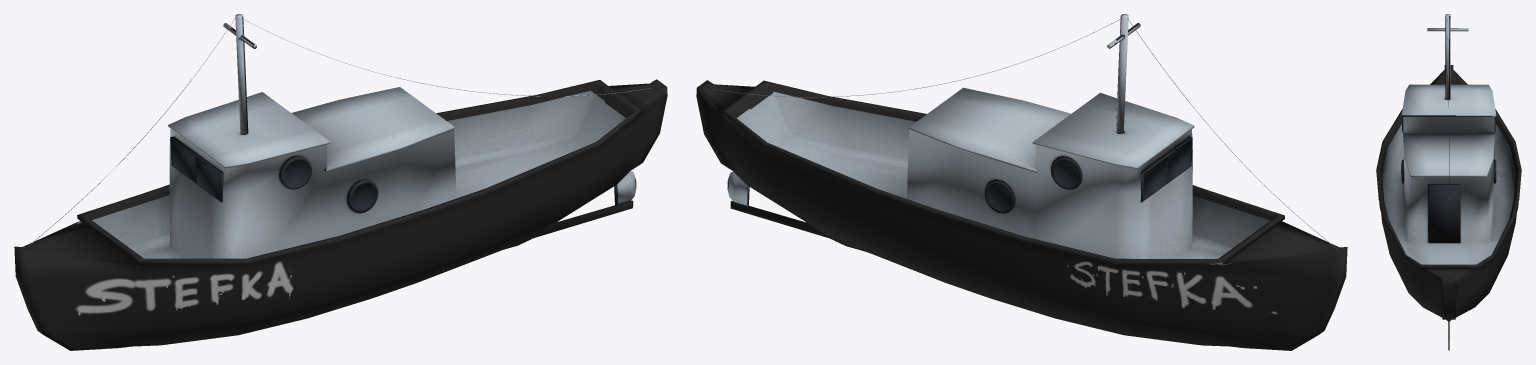
The model's file is Stefka.fbx.
3 views of the same model, side by side, from view 1: azimuth 30°, elevation 25°; view 2: azimuth 150°, elevation 25°; view 3: azimuth 270°, elevation 25° (orthographic). The views are drawn at different scales.
Visible parts, largest first — view 1: NurbsPath.001; view 2: NurbsPath.001; view 3: NurbsPath.001.
Part boxes in pixels (bbox=[...]): NurbsPath.001: bbox=[14, 14, 667, 350]; NurbsPath.001: bbox=[696, 14, 1347, 350]; NurbsPath.001: bbox=[1376, 14, 1521, 350].
Bounding box in the file's own units: 937 × 433 × 262.
Materials: 1 (1 with a texture image).
